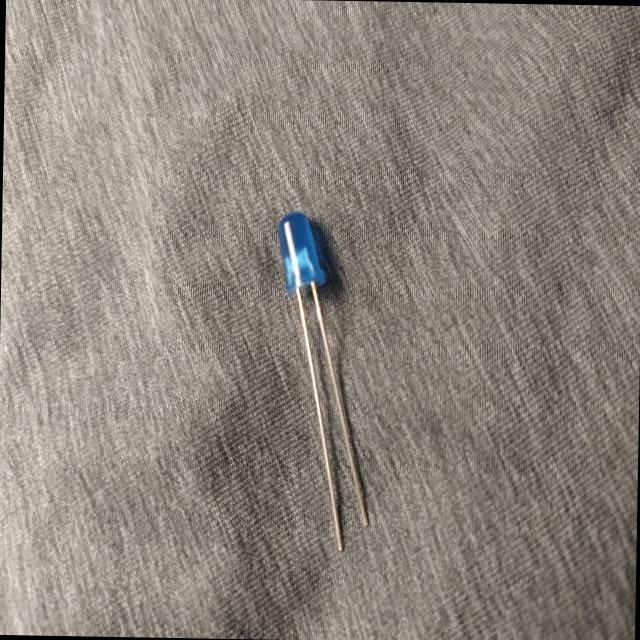blue_led: (270, 209, 374, 552)
